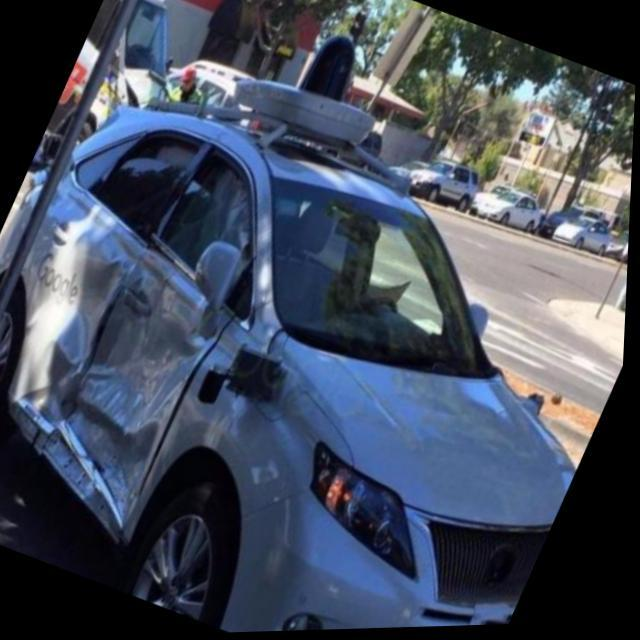dent: (11, 195, 215, 537)
